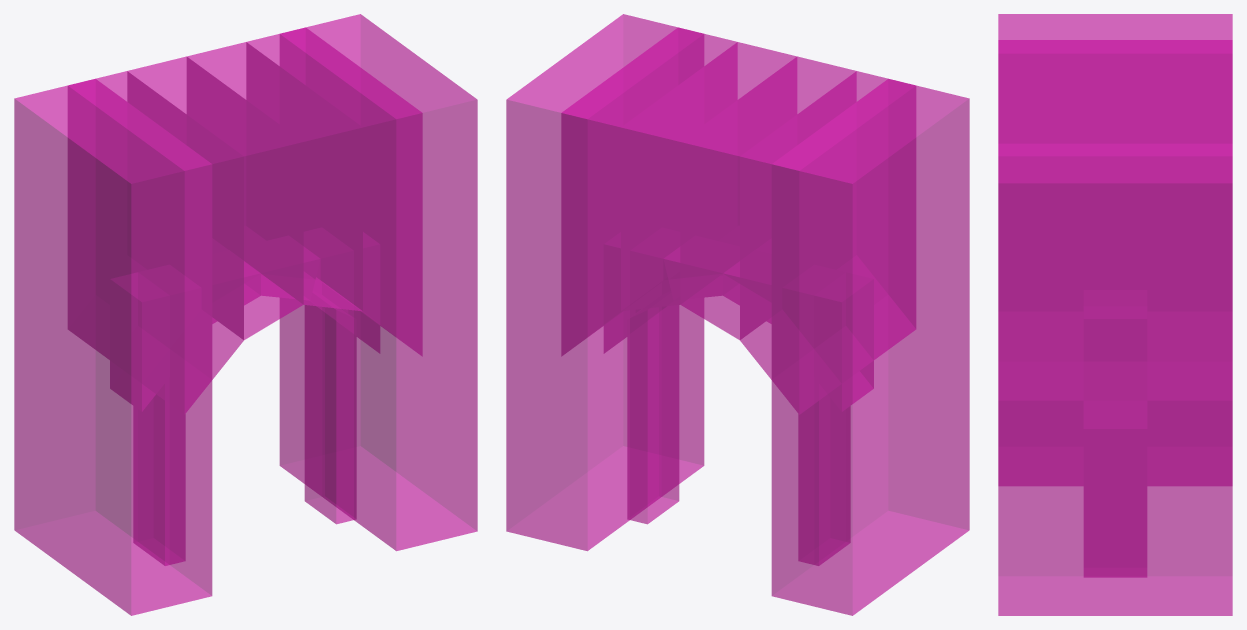
Rendered from SM_Bld_Wall_L_Gate_01_Collision.fbx.
3 renders of one model, left to right at view 1: azimuth 30°, elevation 25°; view 2: azimuth 150°, elevation 25°; view 3: azimuth 270°, elevation 25°, orthographic.
Parts seen in each view (by area): view 1: SM_Bld_Wall_L_Gate_01_Collision; view 2: SM_Bld_Wall_L_Gate_01_Collision; view 3: SM_Bld_Wall_L_Gate_01_Collision.
Boxes of the visible parts, box(x1,y1,x2,y2) form: SM_Bld_Wall_L_Gate_01_Collision: box(14, 14, 477, 615); SM_Bld_Wall_L_Gate_01_Collision: box(506, 14, 969, 615); SM_Bld_Wall_L_Gate_01_Collision: box(998, 14, 1232, 615).
Size of the model in its own units: 1012 by 1206 by 591.
